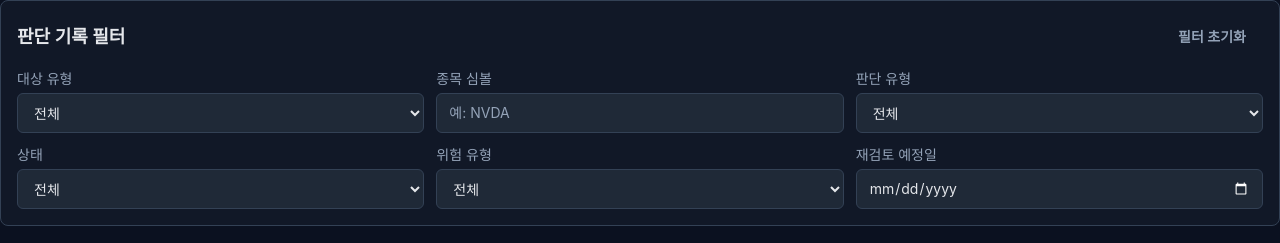
Scenario: DecisionFilterBar › combines labeled filters and clears them
Step 1. Select "종목" in the dropdown labelled "대상 유형" → (221, 113), box [17,93,424,133]
Step 2. Type "nvda" into the search field labelled "종목 심볼" → (640, 113), box [436,93,844,133]
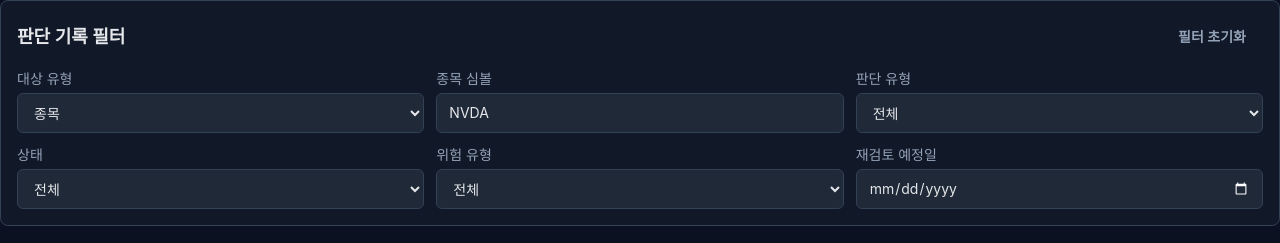
Step 3. Select "매수 검토" in the dropdown labelled "판단 유형" → (1059, 113), box [856,93,1263,133]
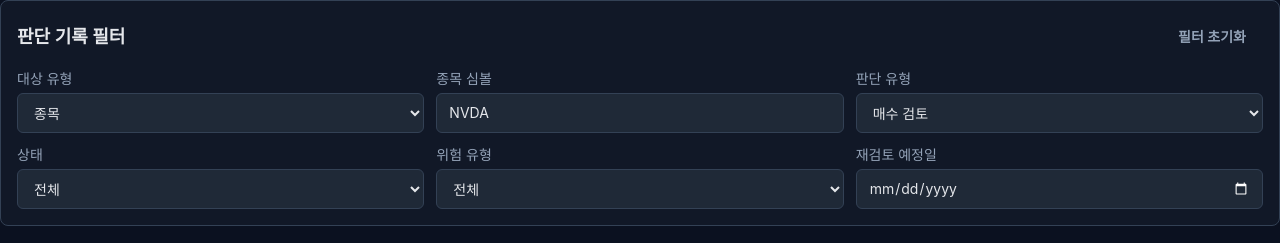
Step 4. Select "재검토 예정" in the dropdown labelled "상태" → (221, 189), box [17,169,424,209]
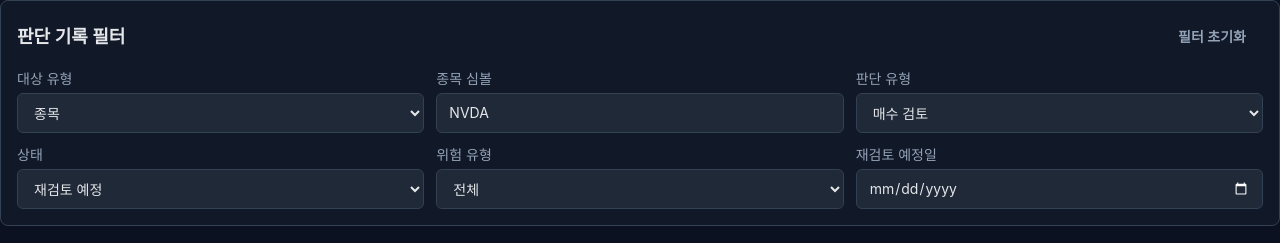
Step 5. Select "밸류에이션" in the dropdown labelled "위험 유형" → (640, 189), box [436,169,844,209]
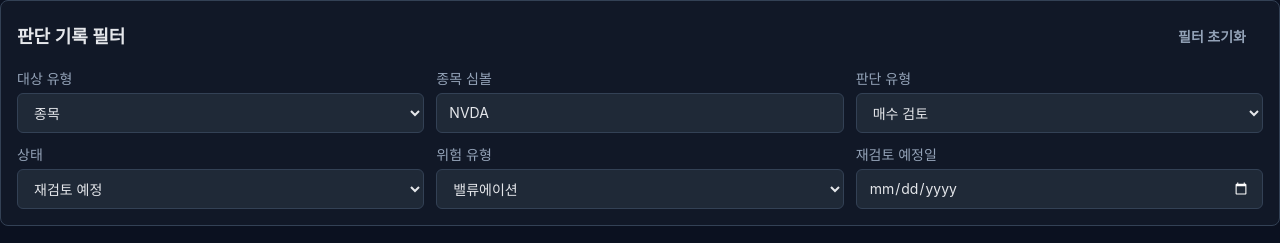
Step 6. Type "2026-08-01" into the date field labelled "재검토 예정일" → (1059, 189), box [856,169,1263,209]
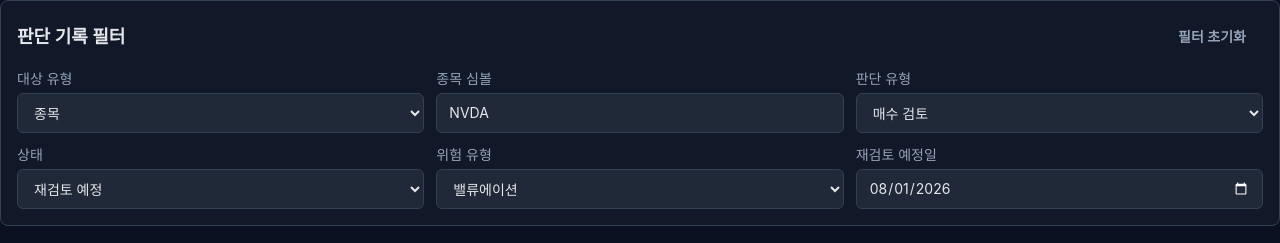
Step 7. Click the button "필터 초기화" → (1212, 37), box [1161,17,1263,57]
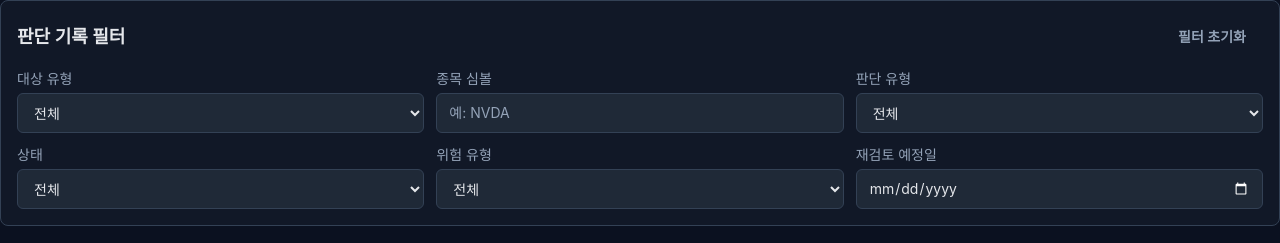
Expected: the search field labelled "종목 심볼" is empty, [436,93,844,133]
